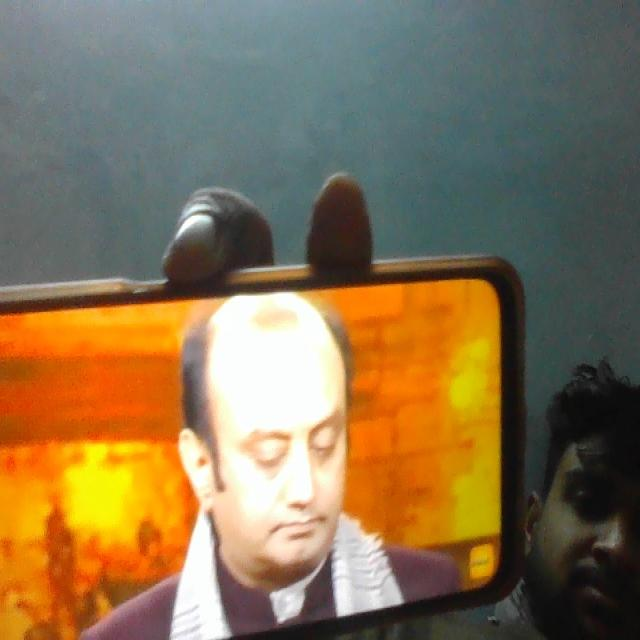fake: (198, 291, 364, 605)
